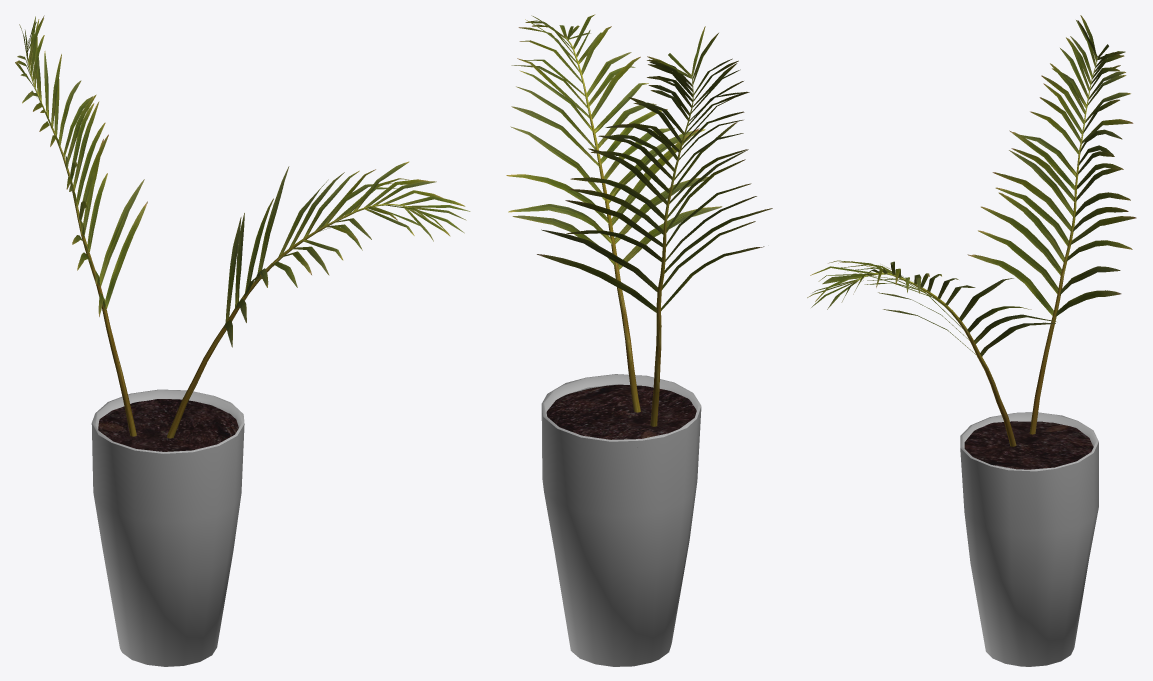
The model's file is HousePlant3.fbx.
The picture shows the model from 3 angles, left to right: view 1: azimuth 30°, elevation 25°; view 2: azimuth 150°, elevation 25°; view 3: azimuth 270°, elevation 25°; orthographic projection. The views are drawn at different scales.
Visible parts, largest first — view 1: Pots_Egg_pot_default, PalmBranch1, PalmBranch2, polySurface65; view 2: Pots_Egg_pot_default, PalmBranch2, PalmBranch1, polySurface65; view 3: Pots_Egg_pot_default, PalmBranch2, polySurface65, PalmBranch1.
Boxes of the visible parts, <box> form: Pots_Egg_pot_default: <box>91,389,244,666</box>; PalmBranch1: <box>167,161,470,438</box>; PalmBranch2: <box>15,15,147,436</box>; polySurface65: <box>98,399,238,451</box>; Pots_Egg_pot_default: <box>541,374,701,666</box>; PalmBranch2: <box>537,26,772,426</box>; PalmBranch1: <box>506,14,722,412</box>; polySurface65: <box>546,384,696,439</box>; Pots_Egg_pot_default: <box>960,412,1098,666</box>; PalmBranch2: <box>967,15,1136,434</box>; polySurface65: <box>964,421,1093,469</box>; PalmBranch1: <box>807,260,1056,446</box>.
Bounding box in the file's own units: 176 × 322 × 167.
Materials: 5 (3 with a texture image).
